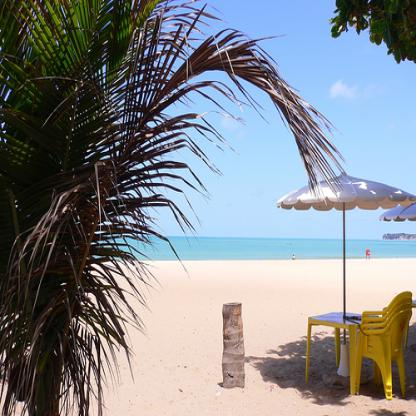chair: (351, 287, 414, 402)
